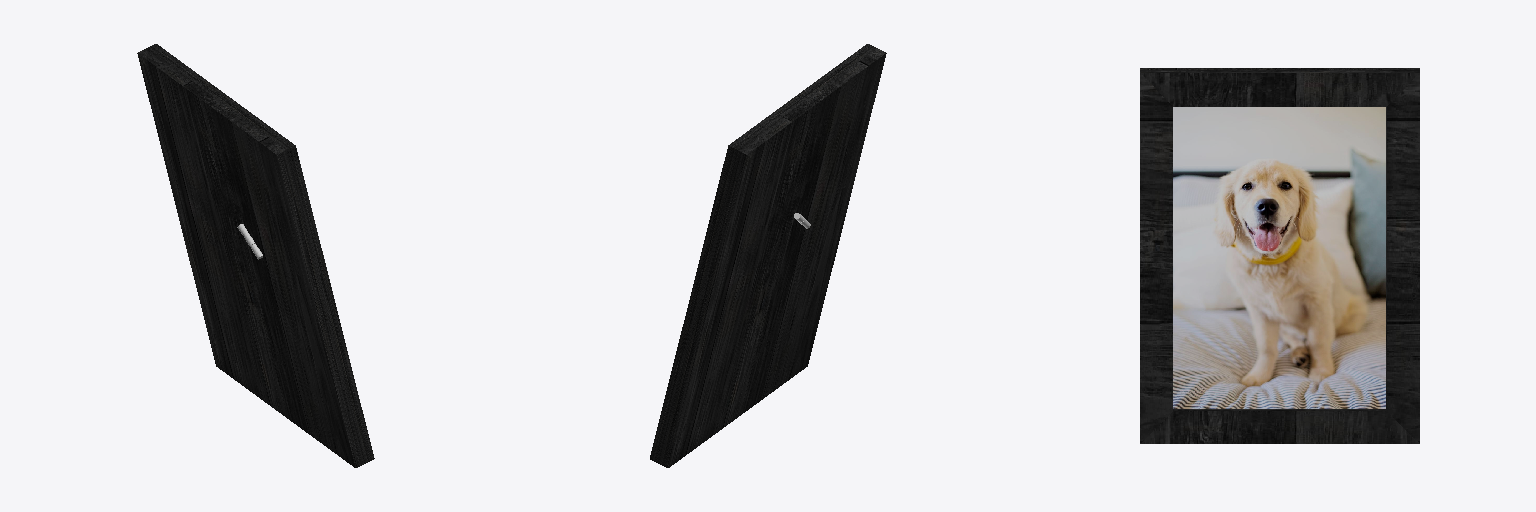
3 renders of one model, left to right at view 1: azimuth 30°, elevation 25°; view 2: azimuth 150°, elevation 25°; view 3: azimuth 270°, elevation 25°, orthographic.
Visible parts, largest first — view 1: Cube.001; view 2: Cube.001; view 3: Plane.001, Cube.001.
Part boxes in pixels (x1,y1,x2,y2): Cube.001: (137,44,374,467); Cube.001: (650,44,886,467); Plane.001: (1173,107,1385,408); Cube.001: (1140,68,1419,443).
Size of the model in its own units: 0.3283 by 1.08 by 0.8138.
Materials: 3 (2 with a texture image).